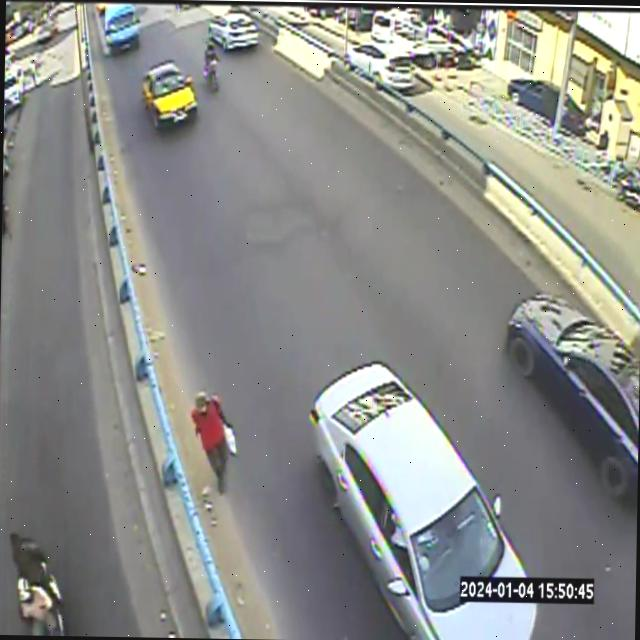car: (309, 362, 537, 640), (505, 292, 639, 499), (142, 60, 197, 128), (345, 42, 414, 89), (208, 12, 258, 50), (103, 3, 138, 54)
